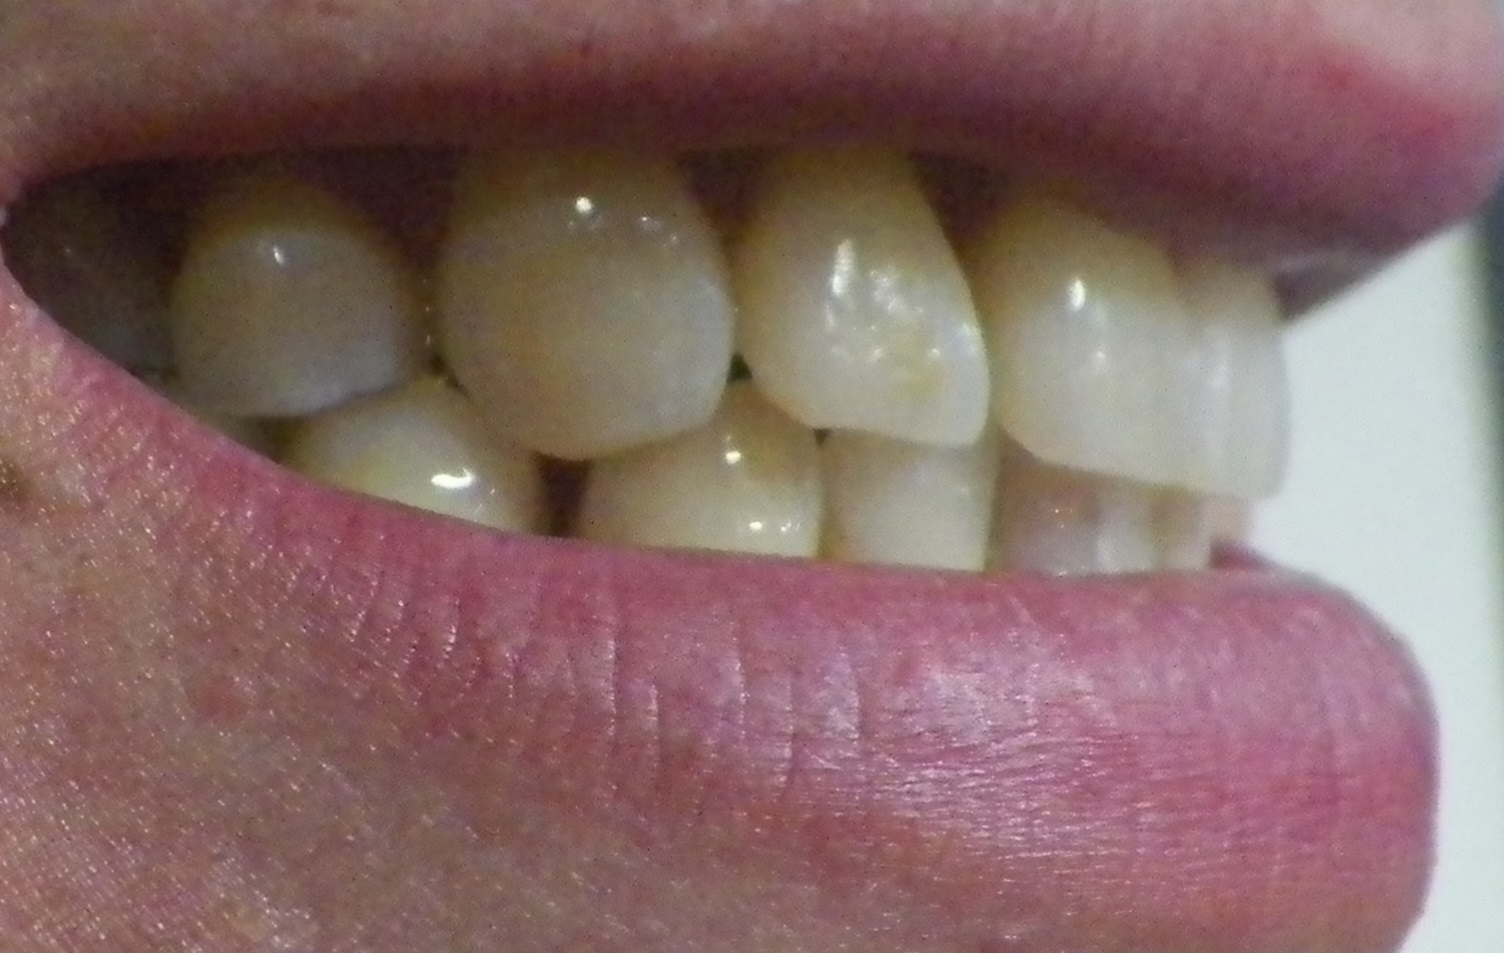boca: (27, 156, 1290, 572)
